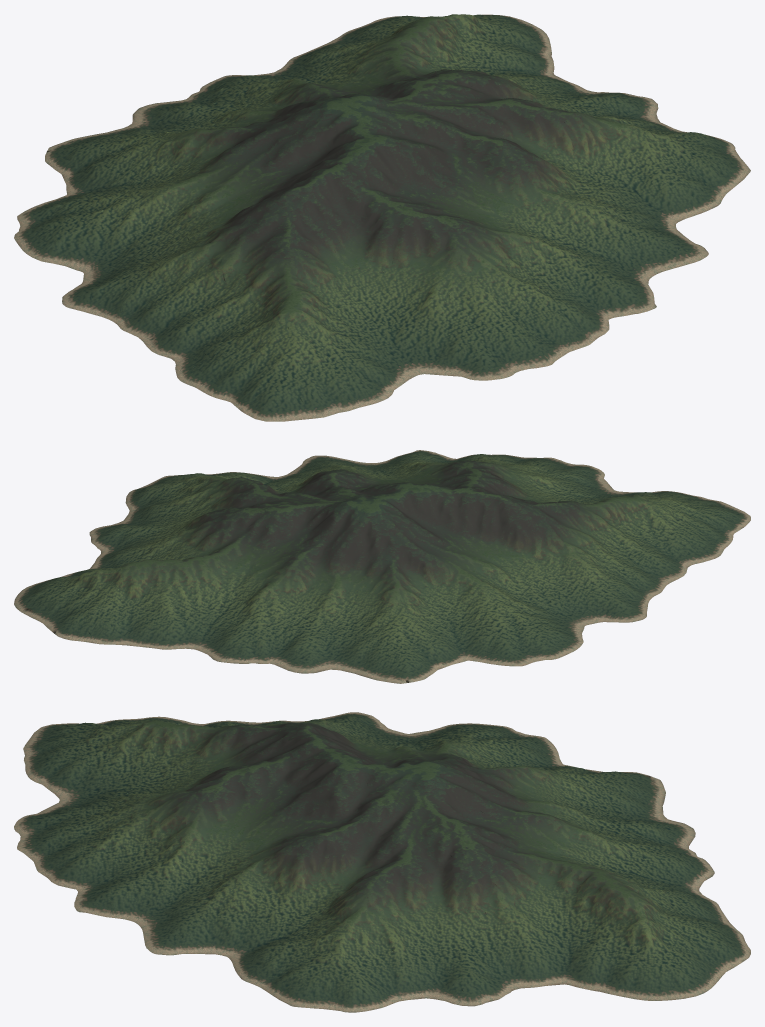
3 views of the same model, one above another, from view 1: azimuth 30°, elevation 25°; view 2: azimuth 150°, elevation 25°; view 3: azimuth 270°, elevation 25° (orthographic). The views are drawn at different scales.
Visible parts, largest first — view 1: C01DY001; view 2: C01DY001; view 3: C01DY001.
Part boxes in pixels (x1,y1,x2,y2): C01DY001: (14,14,750,421); C01DY001: (14,450,750,683); C01DY001: (14,712,750,1012).
Size of the model in its own units: 212 by 29.08 by 219.
1 material, 1 textured.
